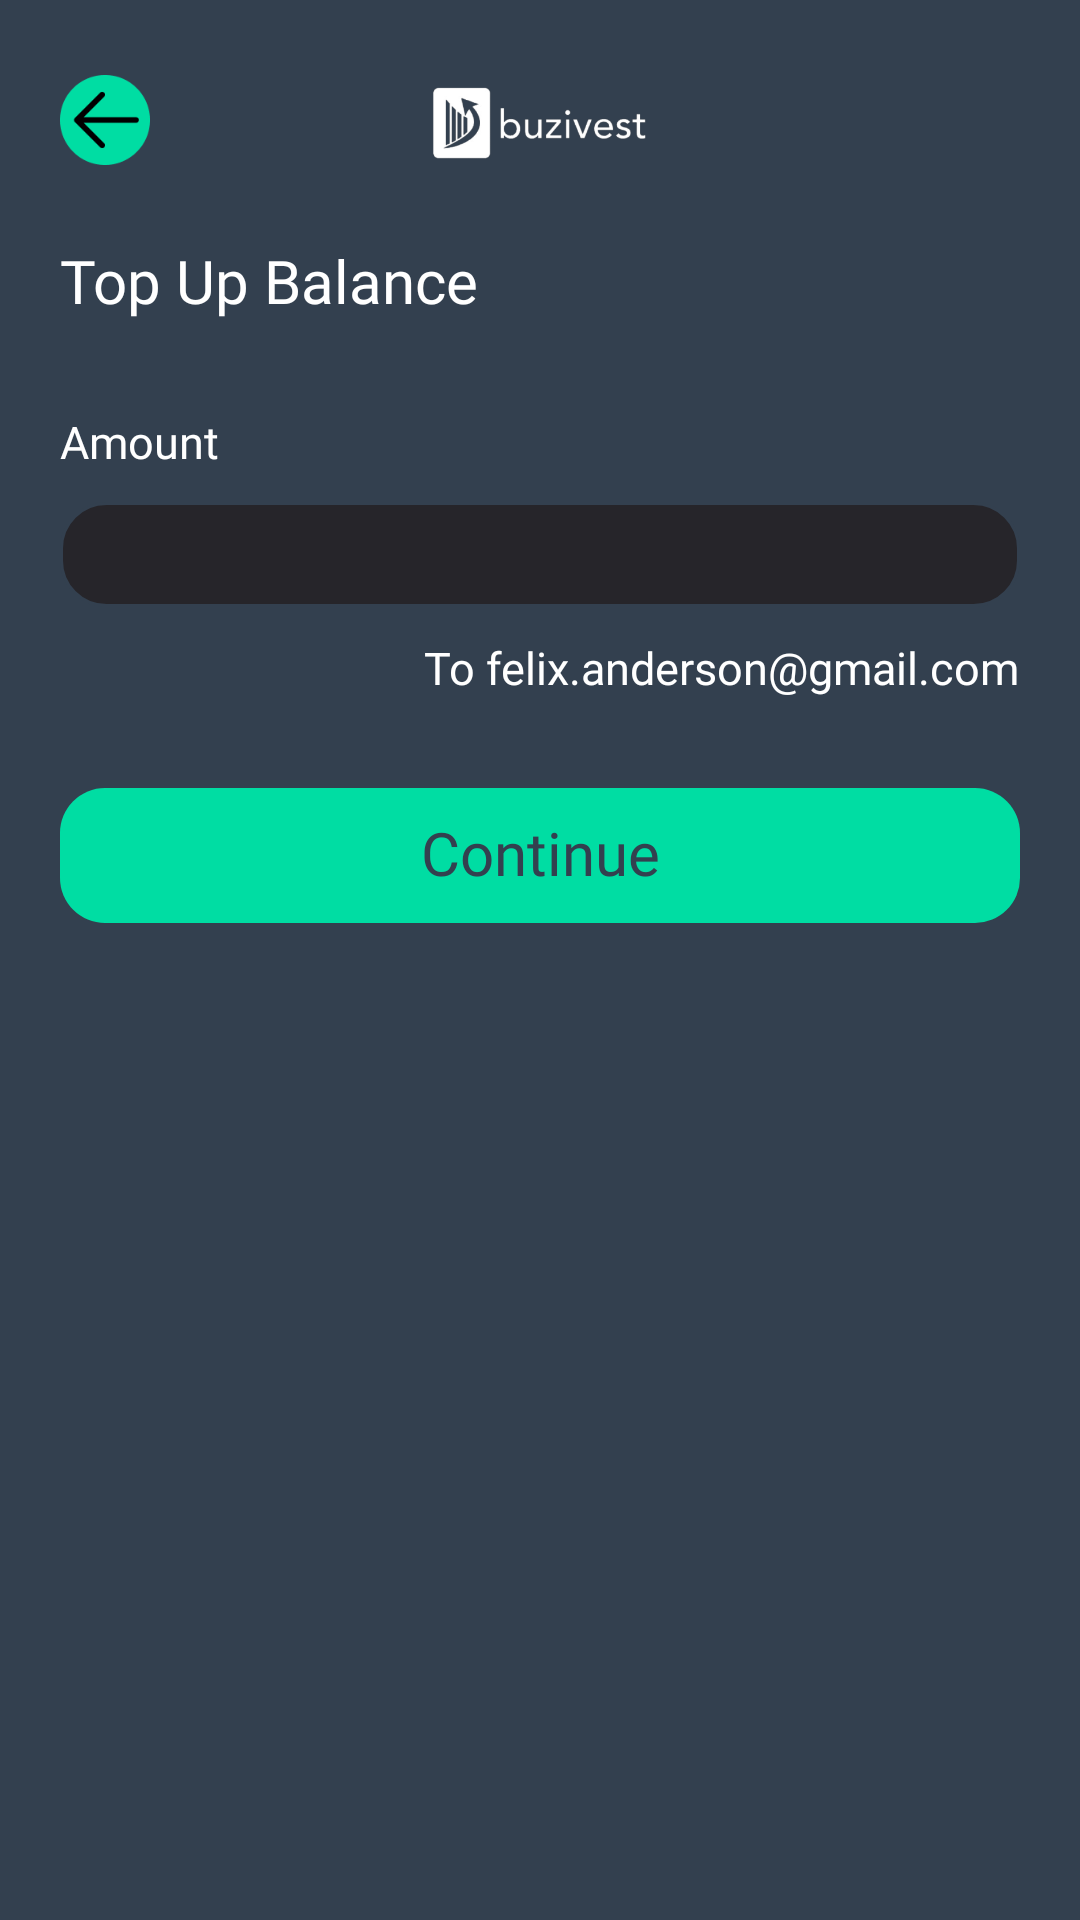

Named icons in this screenshot (1080px x 1920px) and their bounding boxes, (x1, y1, x2, y2):
detail back: (60, 75, 150, 165)
